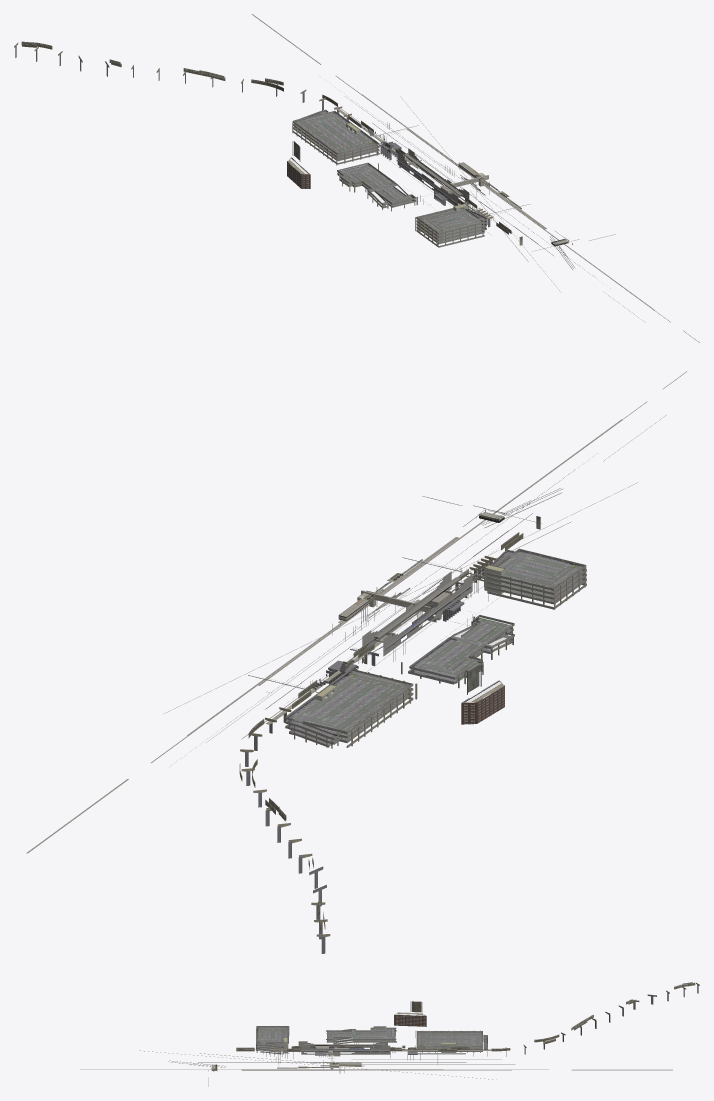
Rendered from kado_04_exact_geometry_texture_v4.glb.
The picture shows the model from 3 angles, top to bottom: view 1: azimuth 30°, elevation 25°; view 2: azimuth 150°, elevation 25°; view 3: azimuth 270°, elevation 25°; orthographic projection. The views are drawn at different scales.
Parts seen in each view (by area): view 1: 平面.096, 平面.097, 平面.116, 平面.087, Cube.061, 平面; view 2: 平面.096, 平面.097, 平面.116, Cube.011, 平面.087, Cube.061, 平面; view 3: 平面.096, 平面, 平面.097, Cube.062, 平面.116, Cube.011, 平面.014, 平面.098, Cube.061, 平面.076, 平面.013.
Boxes of the visible parts, x1,y1,x2,y2 form: 平面.096: (295, 112, 377, 153); 平面.097: (339, 164, 414, 203); 平面.116: (418, 209, 481, 232); 平面.087: (416, 223, 484, 247); Cube.061: (397, 153, 458, 205); 平面: (252, 14, 546, 229); 平面.096: (288, 670, 409, 731); 平面.097: (412, 617, 511, 677); 平面.116: (497, 551, 583, 588); Cube.011: (461, 680, 504, 724); 平面.087: (487, 573, 586, 609); Cube.061: (383, 574, 472, 656); 平面: (26, 537, 458, 853); 平面.096: (417, 1032, 482, 1045); 平面: (241, 1069, 672, 1070); 平面.097: (327, 1027, 395, 1042); Cube.062: (301, 1045, 390, 1054); 平面.116: (256, 1027, 288, 1043); Cube.011: (394, 1012, 426, 1026); 平面.014: (80, 1069, 442, 1069); 平面.098: (326, 1026, 396, 1041); Cube.061: (298, 1041, 387, 1048); 平面.076: (417, 1031, 482, 1047); 平面.013: (198, 1062, 430, 1062).
Size of what is drawn, in the model's own units: 38.42 by 5.39 by 115.
Materials: 7 (6 with a texture image).
